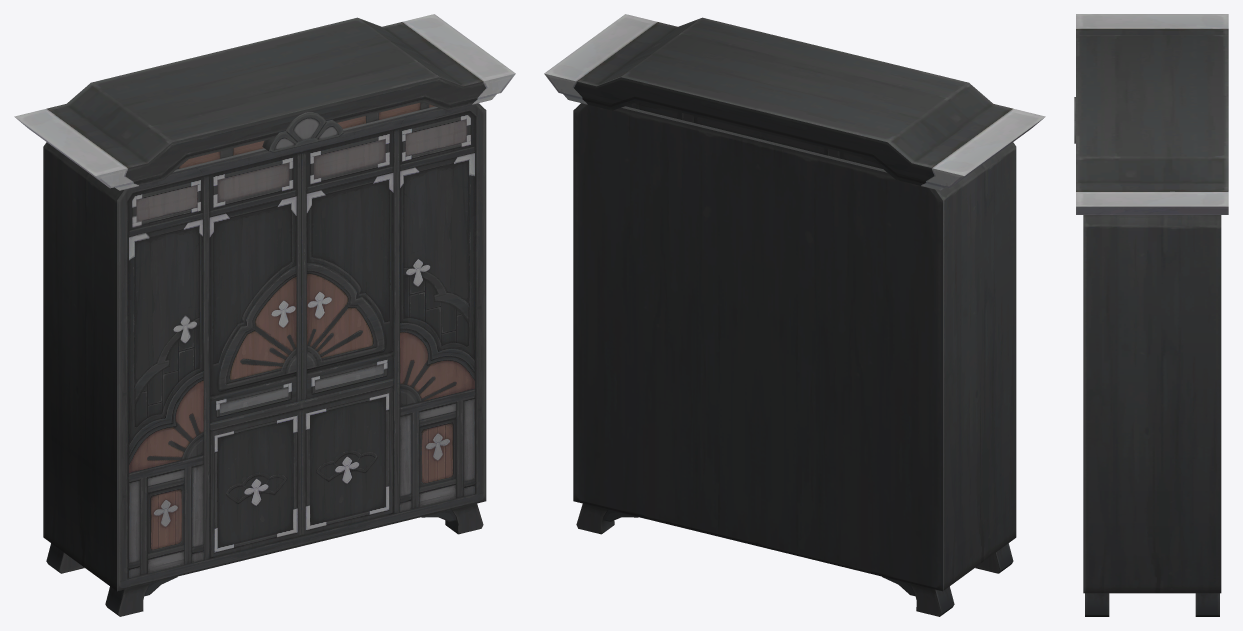
File: Homeworld_Interior_Dq_Cabinet_Wardrobe_01_Vo.fbx
3 renders of one model, left to right at view 1: azimuth 30°, elevation 25°; view 2: azimuth 150°, elevation 25°; view 3: azimuth 270°, elevation 25°, orthographic. The views are drawn at different scales.
Parts seen in each view (by area): view 1: Homeworld_Interior_Dq_Cabinet_Wardrobe_01_Vo; view 2: Homeworld_Interior_Dq_Cabinet_Wardrobe_01_Vo; view 3: Homeworld_Interior_Dq_Cabinet_Wardrobe_01_Vo.
Part boxes in pixels (left/top/right/bottom): Homeworld_Interior_Dq_Cabinet_Wardrobe_01_Vo: left=14, top=14, right=515, bottom=616; Homeworld_Interior_Dq_Cabinet_Wardrobe_01_Vo: left=544, top=14, right=1045, bottom=616; Homeworld_Interior_Dq_Cabinet_Wardrobe_01_Vo: left=1074, top=14, right=1228, bottom=616.
Bounding box in the file's own units: 2.45 × 2.6 × 0.8294.
1 material, 1 textured.
